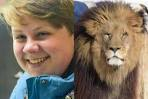lion: (77, 5, 143, 99)
